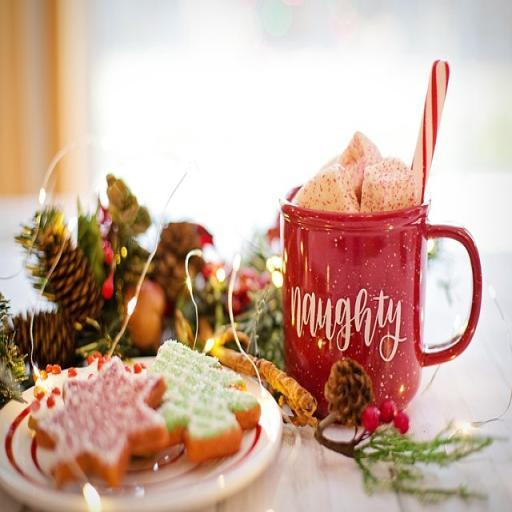cup: (280, 183, 482, 423)
